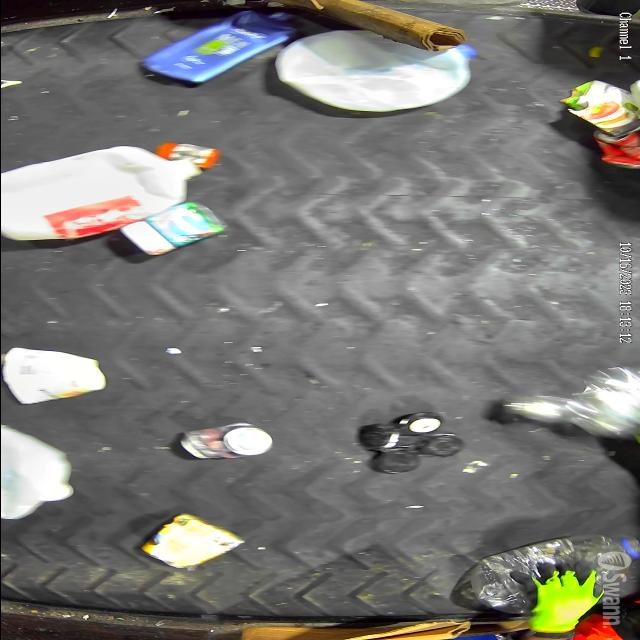can: (139, 514, 245, 568), (178, 423, 274, 459), (590, 134, 640, 170)
milk_jug: (1, 144, 202, 242), (275, 31, 478, 113), (0, 424, 71, 522)
non_white_jug: (140, 10, 294, 84)
plastic_bottle: (468, 534, 640, 614)
